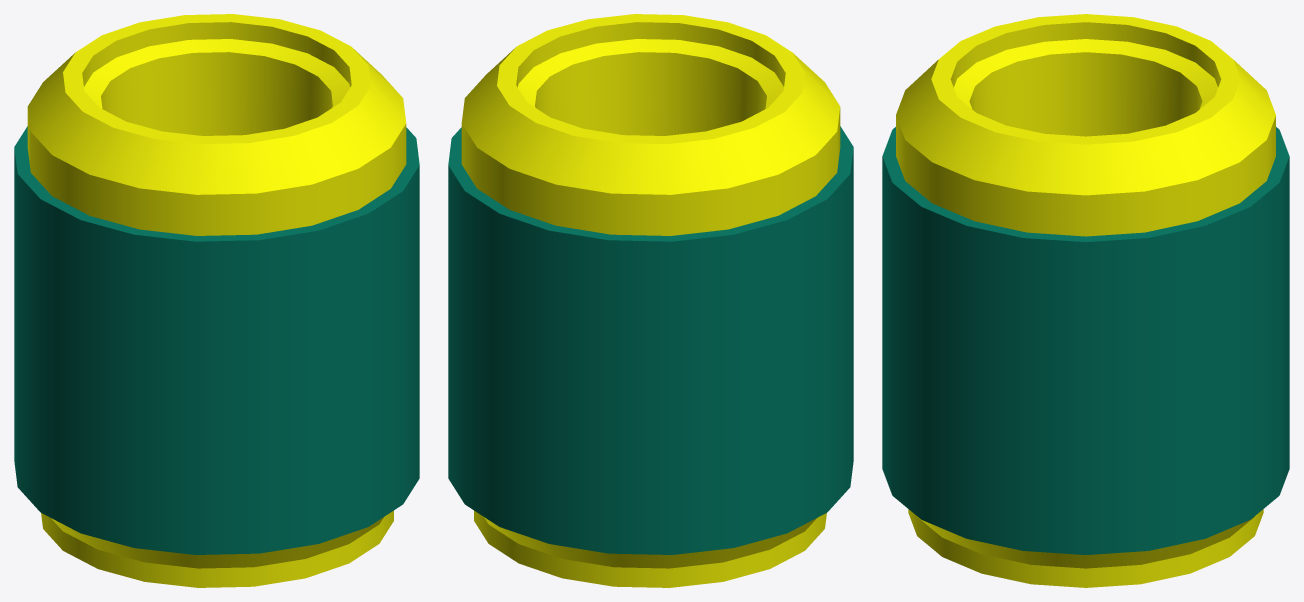
File: SM_Poubelle_petite.fbx
3 views of the same model, side by side, from view 1: azimuth 30°, elevation 25°; view 2: azimuth 150°, elevation 25°; view 3: azimuth 270°, elevation 25° (orthographic).
Visible parts, largest first — view 1: SM_Poubelle_petite; view 2: SM_Poubelle_petite; view 3: SM_Poubelle_petite.
Boxes of the visible parts, x1,y1,x2,y2 form: SM_Poubelle_petite: (14,14,419,587); SM_Poubelle_petite: (448,14,853,587); SM_Poubelle_petite: (882,14,1289,587).
Bounding box in the file's own units: 0.386 × 0.4535 × 0.386.
